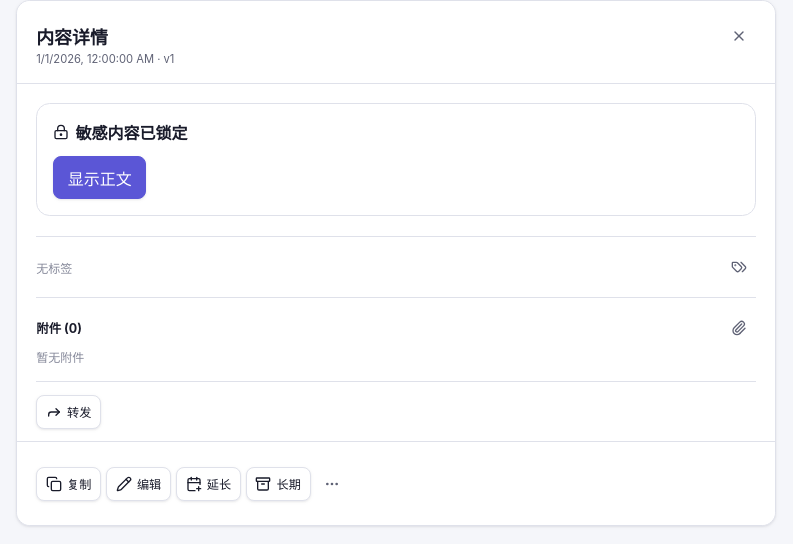
Test case: sensitive detail › reveals only on explicit click and never puts plaintext in query cache
Check: the text "local-only-secret" is not shown
Click the button "显示正文" at (100, 178), box x1=53 y1=156 x2=146 y2=199
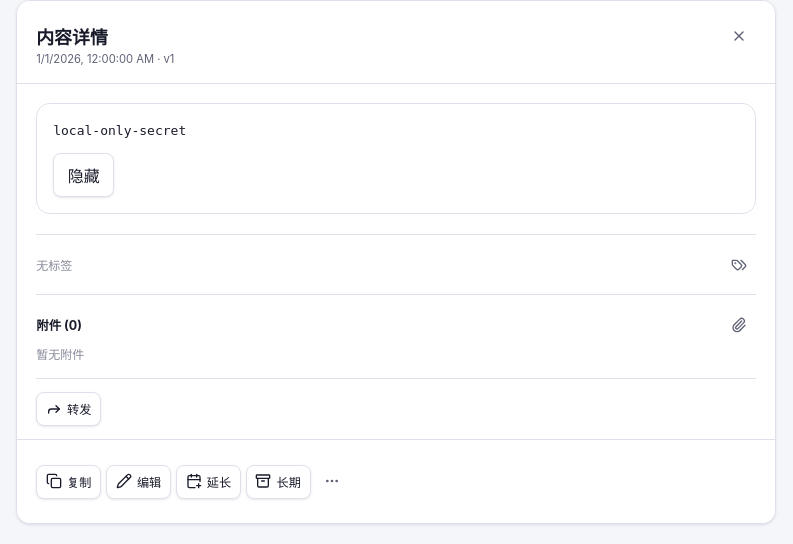
Check: the text "local-only-secret" is shown, box x1=53 y1=123 x2=186 y2=138
